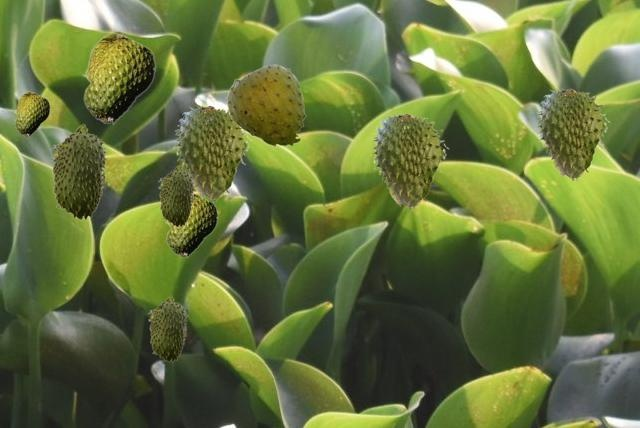guyabano: (370, 113, 448, 209), (173, 105, 251, 201), (535, 88, 609, 180), (82, 32, 155, 124), (225, 64, 305, 147), (50, 123, 107, 219), (165, 192, 217, 257), (148, 295, 187, 361), (158, 164, 194, 226), (14, 91, 49, 136)
